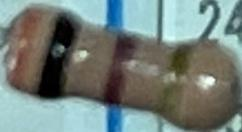Black: (36, 7, 83, 99)
Brown: (100, 30, 144, 106)
Orange: (5, 5, 52, 95)
Side-Gold: (156, 40, 196, 128)
